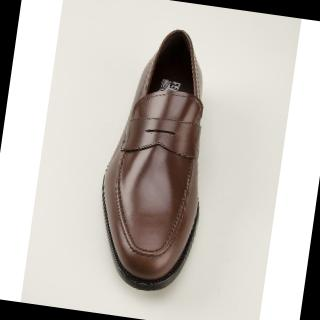loafers: (80, 21, 230, 298)
